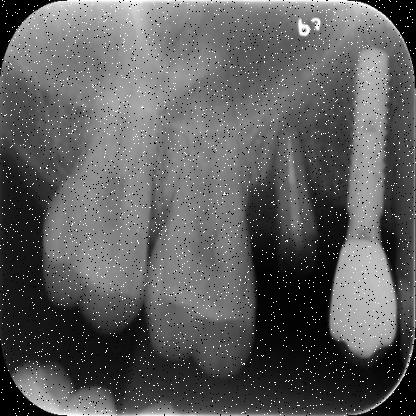ITI: (344, 47, 391, 222)
